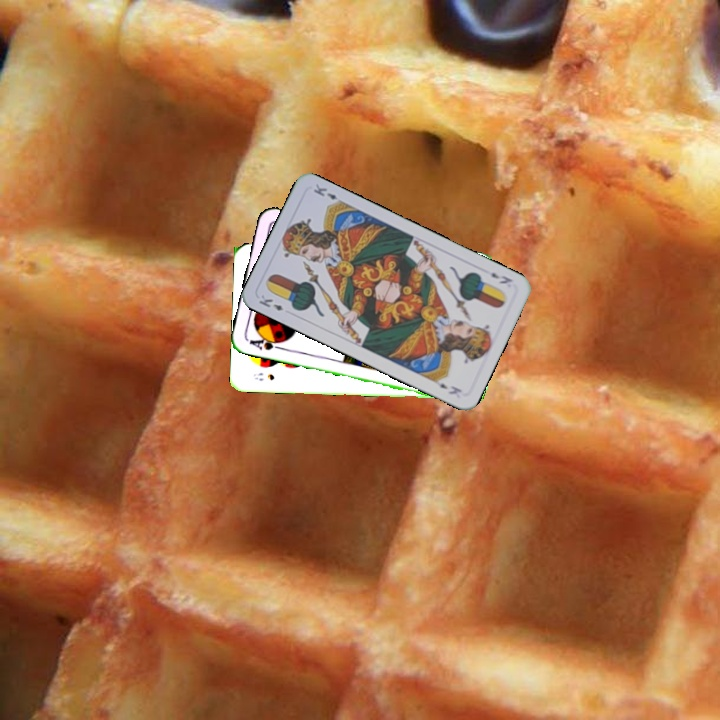EK: (255, 291, 286, 313), (487, 268, 515, 287)
S8: (250, 369, 277, 383)
SA: (245, 332, 286, 353)
